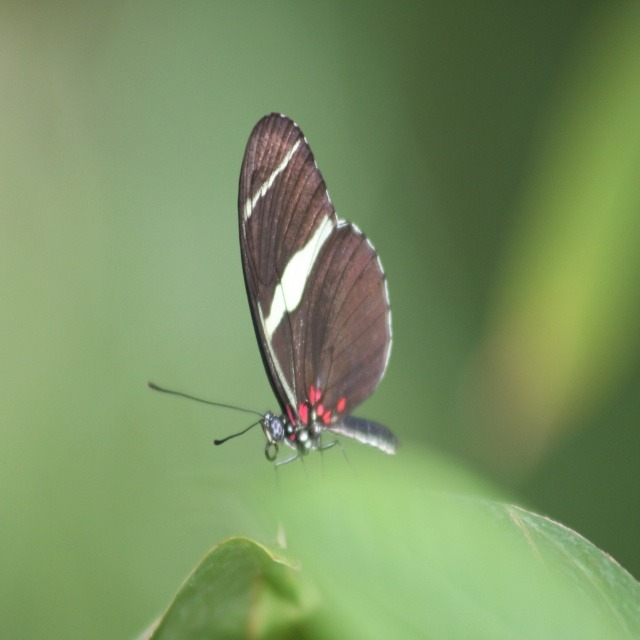Butterfly: (147, 108, 404, 483)
